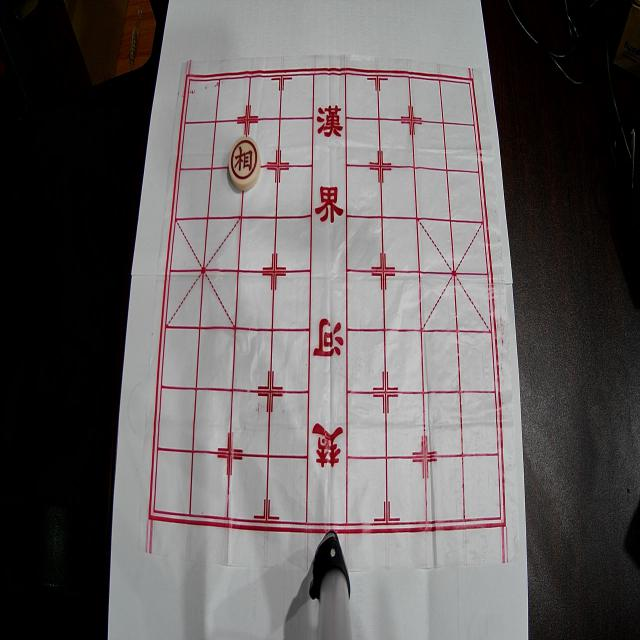red-elephant: (228, 137, 260, 191)
